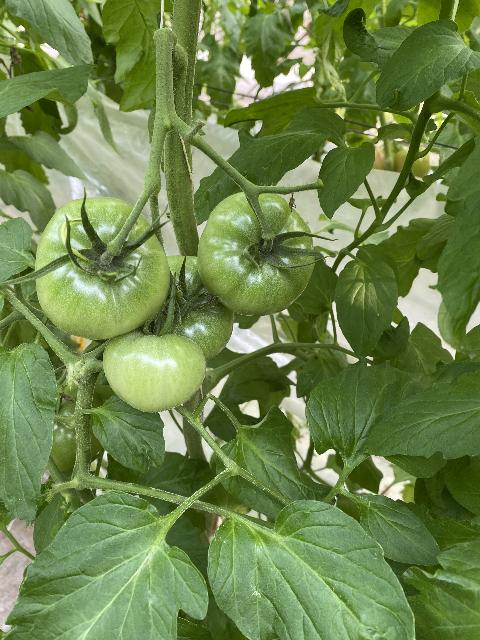b_green: (35, 197, 169, 340), (198, 191, 314, 316), (144, 256, 235, 360), (102, 331, 205, 413)
